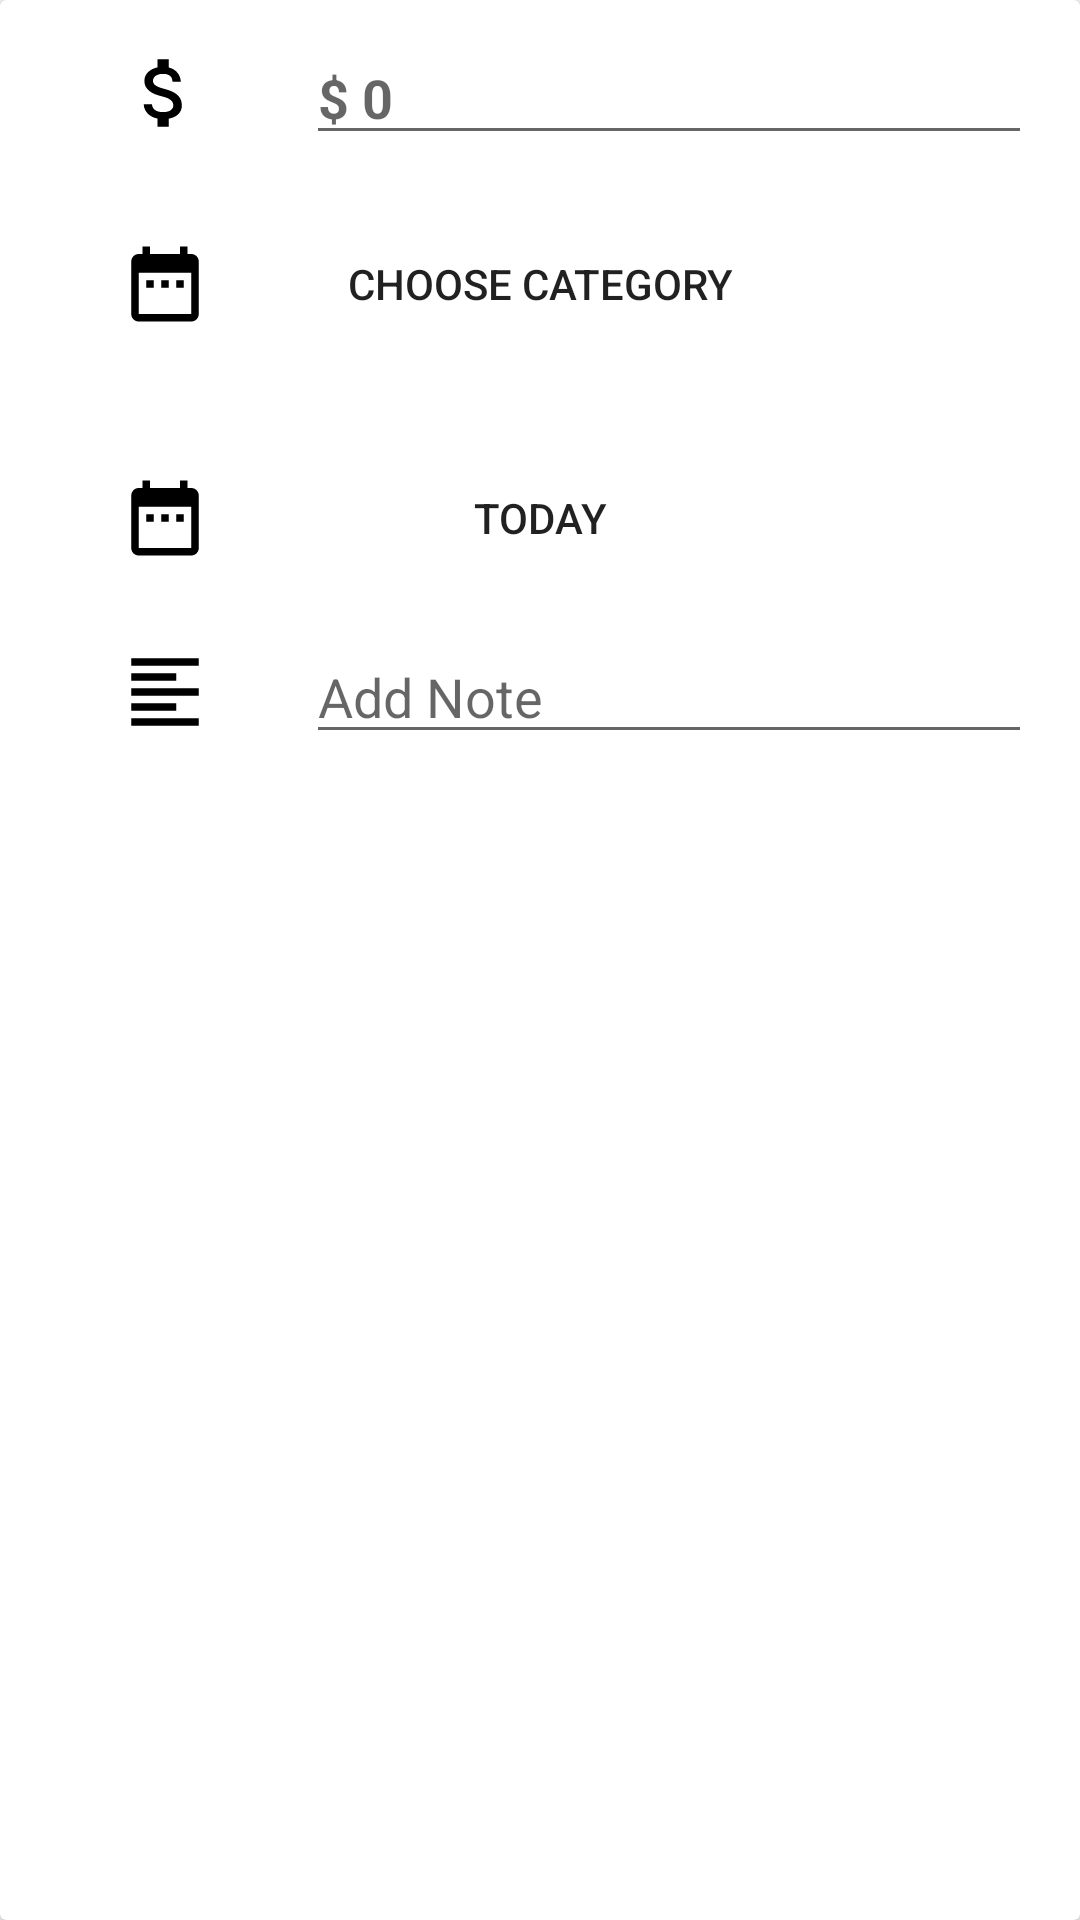

Icons on this 1080 × 1920 Android screen, each with the point to tap as (x,y):
date: (165,284), (165,518)
money: (162,93)
